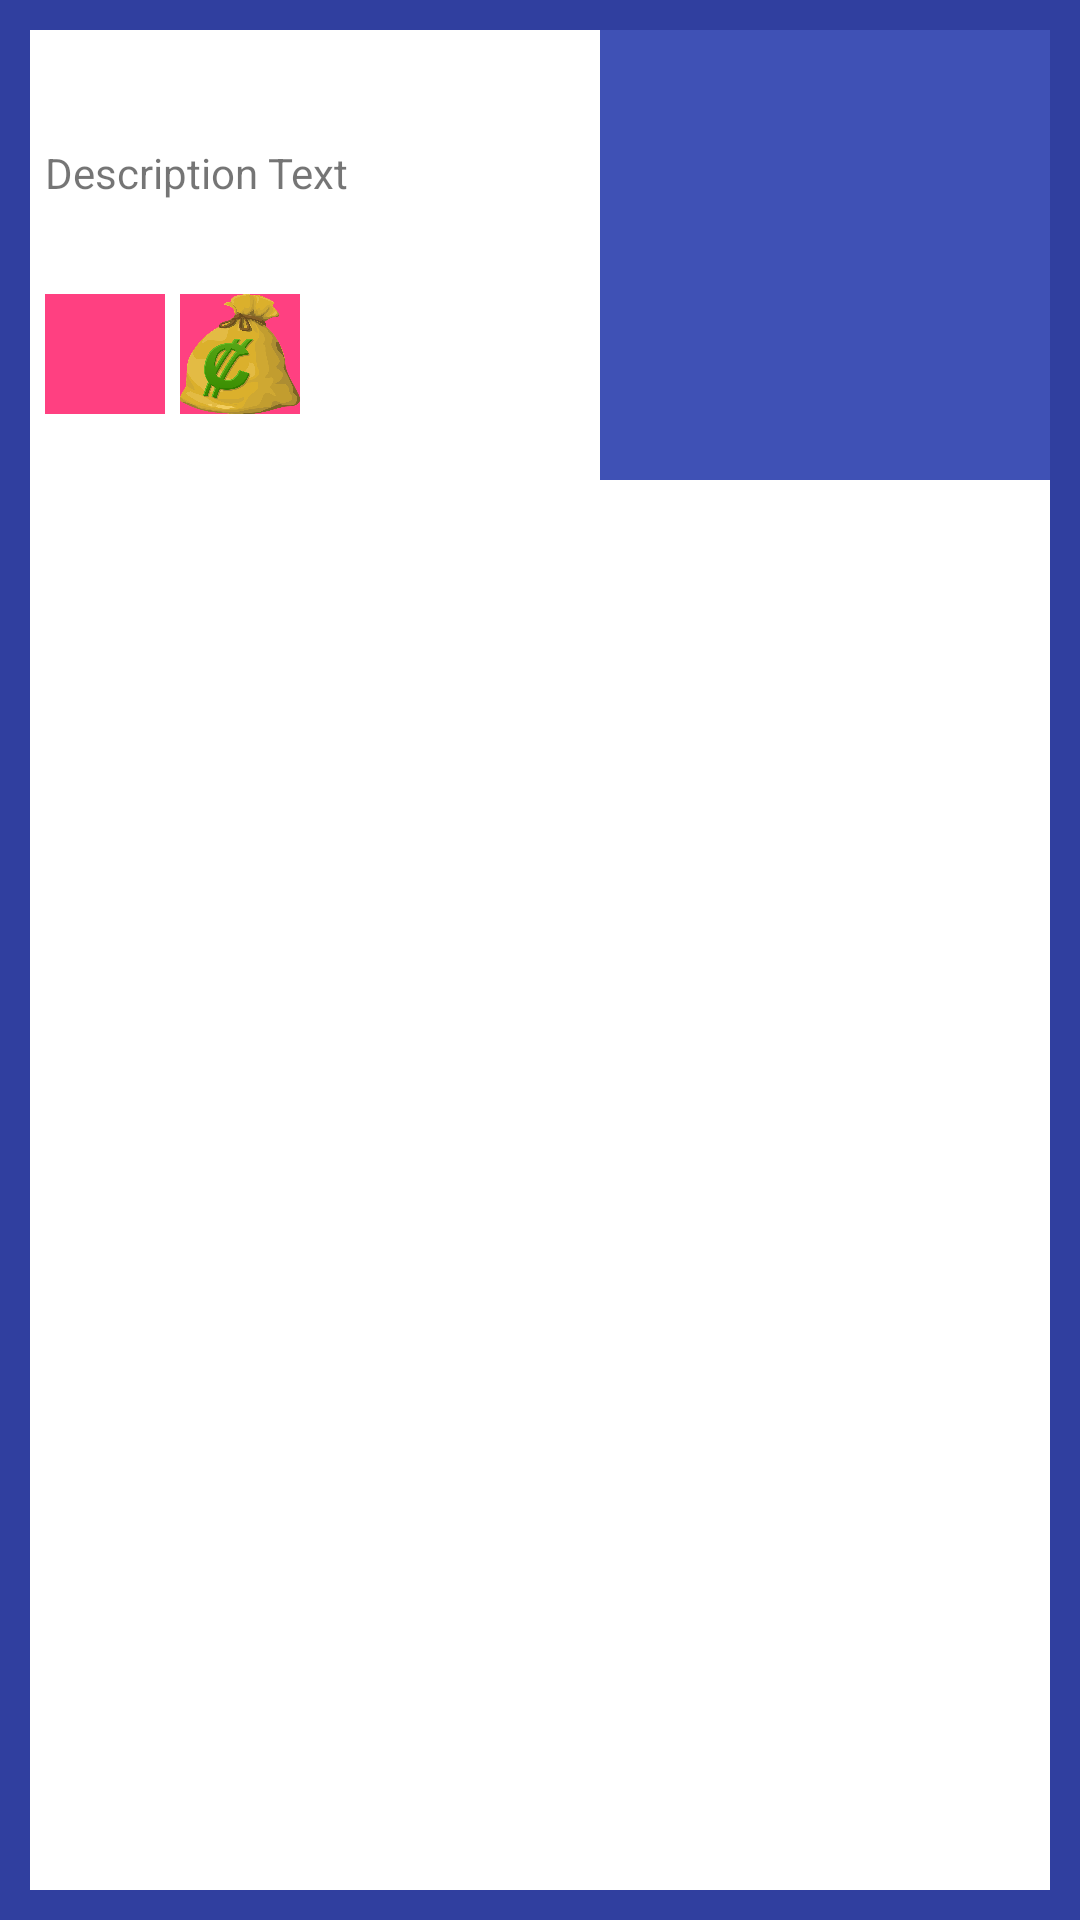

Icons on this 1080x1920 Android screen, each with the point to tap as point (x, y):
sale: point (240, 354)
